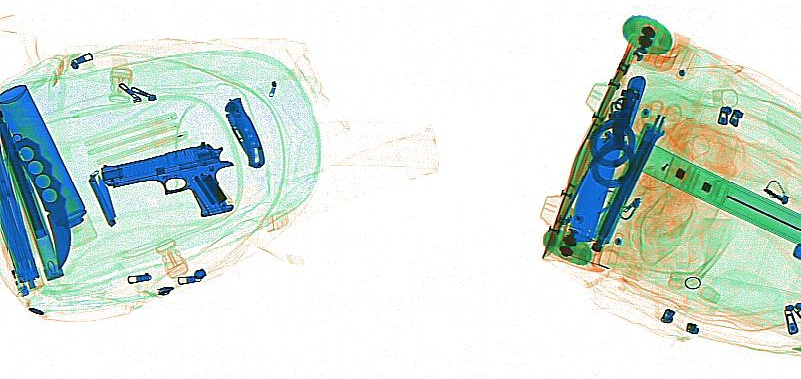handcuffs: (585, 85, 642, 189)
knife: (566, 73, 646, 245), (9, 132, 72, 269), (225, 94, 267, 170), (87, 168, 116, 226)
lighter: (1, 245, 31, 296)
pressure: (1, 85, 87, 229)
scissors: (624, 100, 682, 202)
